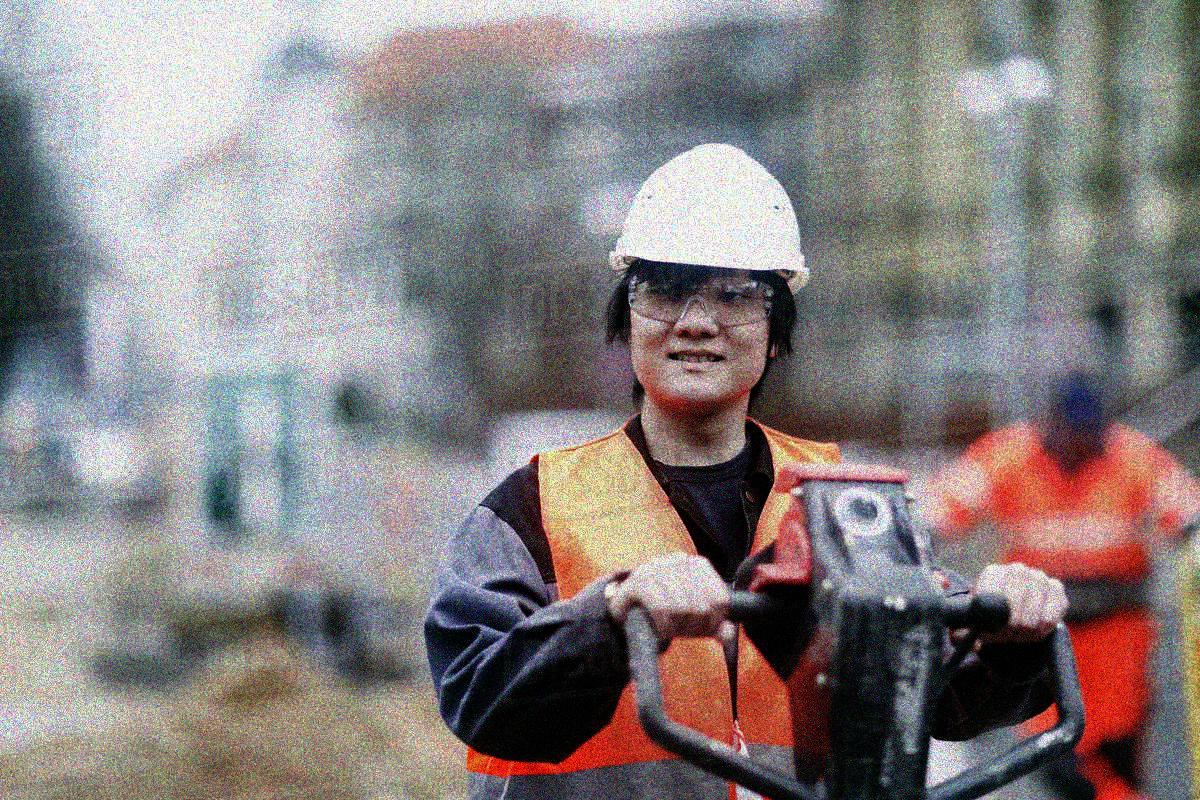helmet: (599, 137, 817, 415)
